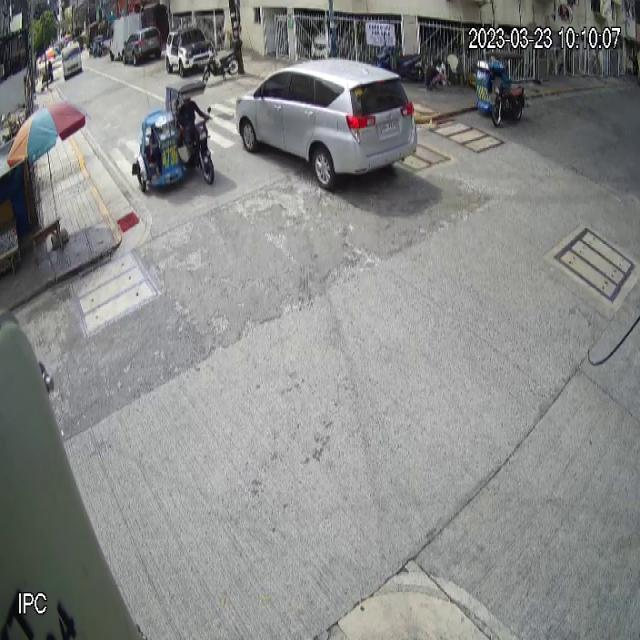Car: (235, 59, 418, 191)
Tricycle: (132, 78, 215, 192), (475, 58, 528, 129)
